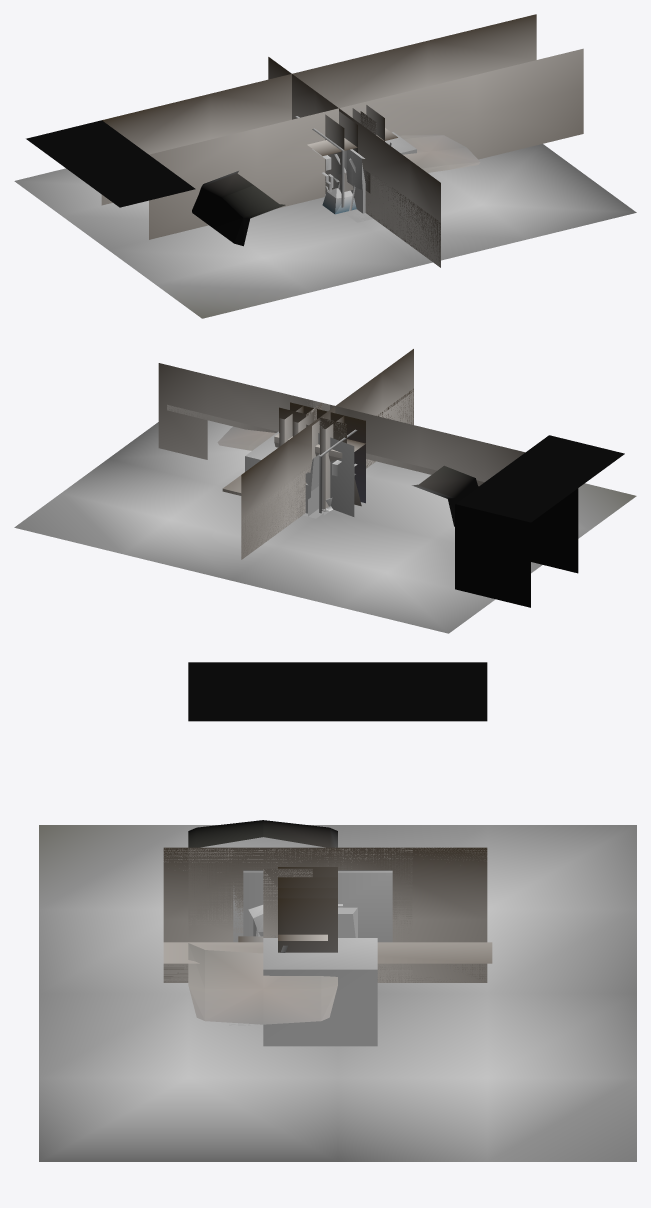
Rendered from backstage_locker_room.glb.
3 views of the same model, one above another, from view 1: azimuth 30°, elevation 25°; view 2: azimuth 150°, elevation 25°; view 3: azimuth 270°, elevation 25° (orthographic). The views are drawn at different scales.
Visible parts, largest first — view 1: 0x6ae_Backstage_Locker_Room_Door_Frame, 0x6f4_Backstage_Locker_Room_Left_Wall_Bottom_Section, 0x6ee_Backstage_Locker_Room_Left_Wall_Top_Section, 0x6ed_Backstage_Locker_Room_Right_Wall_Top_Left_Section, 0x6f9_Backstage_Locker_Room_Black_T_Shirt_On_Back_Of_Chair, 0x6f2_Backstage_Locker_Room_Right_Wall_Bottom_Left_Section, 0x6c1_Backstage_Locker_Room_Divider_Between_Lockers_1_2, 0x6f3_Backstage_Locker_Room_Left_Wall_Middle_Section, 0x6dd_Backstage_Locker_Room_Speaker_Above_Whiteboard, 0x6f8_Backstage_Locker_Room_Bar_Counter_Top; view 2: 0x6ae_Backstage_Locker_Room_Door_Frame, 0x6ee_Backstage_Locker_Room_Left_Wall_Top_Section, 0x6ef_Backstage_Locker_Room_Front_Wall_Can_t_Be_Seen_Top_Sec, 0x6ed_Backstage_Locker_Room_Right_Wall_Top_Left_Section, 0x6f4_Backstage_Locker_Room_Left_Wall_Bottom_Section, 0x6f9_Backstage_Locker_Room_Black_T_Shirt_On_Back_Of_Chair, 0x6f3_Backstage_Locker_Room_Left_Wall_Middle_Section, 0x6ac_Backstage_Locker_Room_Door, 0x6f2_Backstage_Locker_Room_Right_Wall_Bottom_Left_Section, 0x6bb_Backstage_Locker_Room_Inside_Shelves_Of_Locker_6_Farth, 0x6af_Backstage_Locker_Room_Floor, 0x6c1_Backstage_Locker_Room_Divider_Between_Lockers_1_2 (+2 smaller); view 3: 0x6ae_Backstage_Locker_Room_Door_Frame, 0x6eb_Backstage_Locker_Room_Two_T_Shirts_In_Locker_4, 0x6ee_Backstage_Locker_Room_Left_Wall_Top_Section, 0x6f9_Backstage_Locker_Room_Black_T_Shirt_On_Back_Of_Chair, 0x6ec_Backstage_Locker_Room_Right_Wall_Top_Right_Section, 0x69f_Backstage_Locker_Room_Water_Bottle_In_Locker_6, 0x69d_Backstage_Locker_Room_Black_Luggage_Carrier_Handle, 0x6f7_Backstage_Locker_Room_Bar_Counter_Leg, 0x6c4_Backstage_Locker_Room_Divider_Between_Lockers_4_5, 0x6cb_Backstage_Locker_Room_Right_Pillar_Top_Front_Section, 0x6f1_Backstage_Locker_Room_Right_Wall_Bottom_Right_Section.
Boxes of the visible parts, box(x1,y1,x2,y2) form: 0x6ae_Backstage_Locker_Room_Door_Frame: box(14, 144, 636, 318); 0x6f4_Backstage_Locker_Room_Left_Wall_Bottom_Section: box(149, 48, 583, 239); 0x6ee_Backstage_Locker_Room_Left_Wall_Top_Section: box(26, 14, 536, 207); 0x6ed_Backstage_Locker_Room_Right_Wall_Top_Left_Section: box(268, 57, 440, 267); 0x6f9_Backstage_Locker_Room_Black_T_Shirt_On_Back_Of_Chair: box(192, 134, 480, 246); 0x6f2_Backstage_Locker_Room_Right_Wall_Bottom_Left_Section: box(364, 173, 440, 263); 0x6c1_Backstage_Locker_Room_Divider_Between_Lockers_1_2: box(325, 114, 344, 193); 0x6f3_Backstage_Locker_Room_Left_Wall_Middle_Section: box(292, 114, 440, 266); 0x6dd_Backstage_Locker_Room_Speaker_Above_Whiteboard: box(322, 188, 356, 214); 0x6f8_Backstage_Locker_Room_Bar_Counter_Top: box(344, 149, 364, 189); 0x6ae_Backstage_Locker_Room_Door_Frame: box(14, 420, 636, 633); 0x6ee_Backstage_Locker_Room_Left_Wall_Top_Section: box(455, 435, 624, 607); 0x6ef_Backstage_Locker_Room_Front_Wall_Can_t_Be_Seen_Top_Sec: box(158, 363, 524, 481); 0x6ed_Backstage_Locker_Room_Right_Wall_Top_Left_Section: box(241, 349, 413, 559); 0x6f4_Backstage_Locker_Room_Left_Wall_Bottom_Section: box(531, 488, 578, 573); 0x6f9_Backstage_Locker_Room_Black_T_Shirt_On_Back_Of_Chair: box(217, 426, 478, 526); 0x6f3_Backstage_Locker_Room_Left_Wall_Middle_Section: box(241, 388, 413, 558); 0x6ac_Backstage_Locker_Room_Door: box(318, 433, 354, 516); 0x6f2_Backstage_Locker_Room_Right_Wall_Bottom_Left_Section: box(241, 391, 413, 555); 0x6bb_Backstage_Locker_Room_Inside_Shelves_Of_Locker_6_Farth: box(167, 404, 484, 486); 0x6af_Backstage_Locker_Room_Floor: box(317, 409, 365, 503); 0x6c1_Backstage_Locker_Room_Divider_Between_Lockers_1_2: box(320, 416, 344, 511); 0x6ae_Backstage_Locker_Room_Door_Frame: box(39, 825, 636, 1161); 0x6eb_Backstage_Locker_Room_Two_T_Shirts_In_Locker_4: box(188, 847, 487, 982); 0x6ee_Backstage_Locker_Room_Left_Wall_Top_Section: box(188, 662, 487, 721); 0x6f9_Backstage_Locker_Room_Black_T_Shirt_On_Back_Of_Chair: box(188, 820, 337, 1024); 0x6ec_Backstage_Locker_Room_Right_Wall_Top_Right_Section: box(163, 847, 412, 982); 0x69f_Backstage_Locker_Room_Water_Bottle_In_Locker_6: box(263, 938, 377, 1046); 0x69d_Backstage_Locker_Room_Black_Luggage_Carrier_Handle: box(243, 870, 392, 942); 0x6f7_Backstage_Locker_Room_Bar_Counter_Leg: box(163, 942, 492, 963); 0x6c4_Backstage_Locker_Room_Divider_Between_Lockers_4_5: box(278, 898, 337, 952); 0x6cb_Backstage_Locker_Room_Right_Pillar_Top_Front_Section: box(263, 868, 312, 937); 0x6f1_Backstage_Locker_Room_Right_Wall_Bottom_Right_Section: box(163, 848, 412, 982).
Size of the model in its own units: 13.82 by 3.31 by 9.19.
